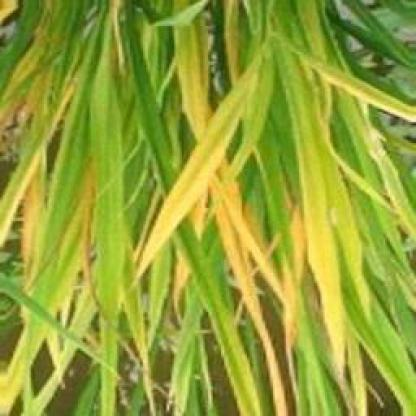Tungro: (177, 58, 296, 395), (120, 73, 266, 281), (303, 84, 350, 386), (3, 131, 58, 247), (323, 60, 416, 127)
